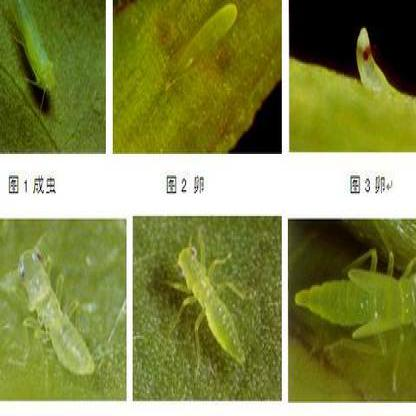Green-Leafhopper: (294, 241, 416, 365), (15, 234, 97, 381), (166, 226, 246, 364), (174, 2, 247, 82), (9, 0, 56, 99), (349, 23, 409, 100)
